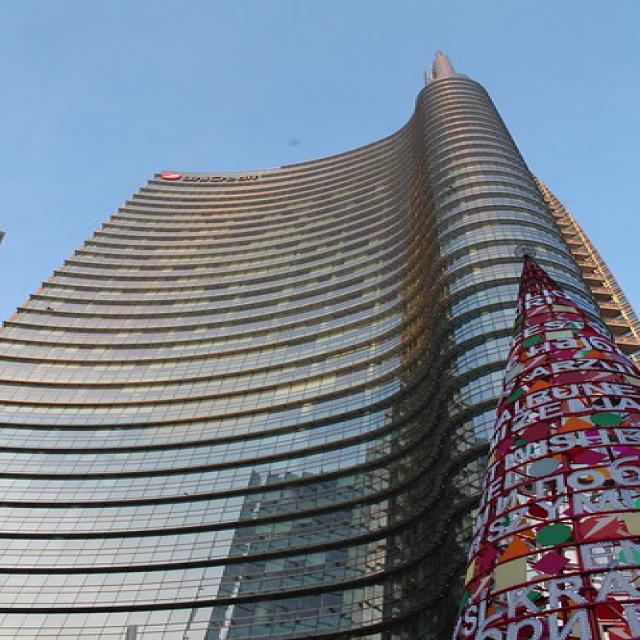Normal_building: (15, 47, 640, 640)
